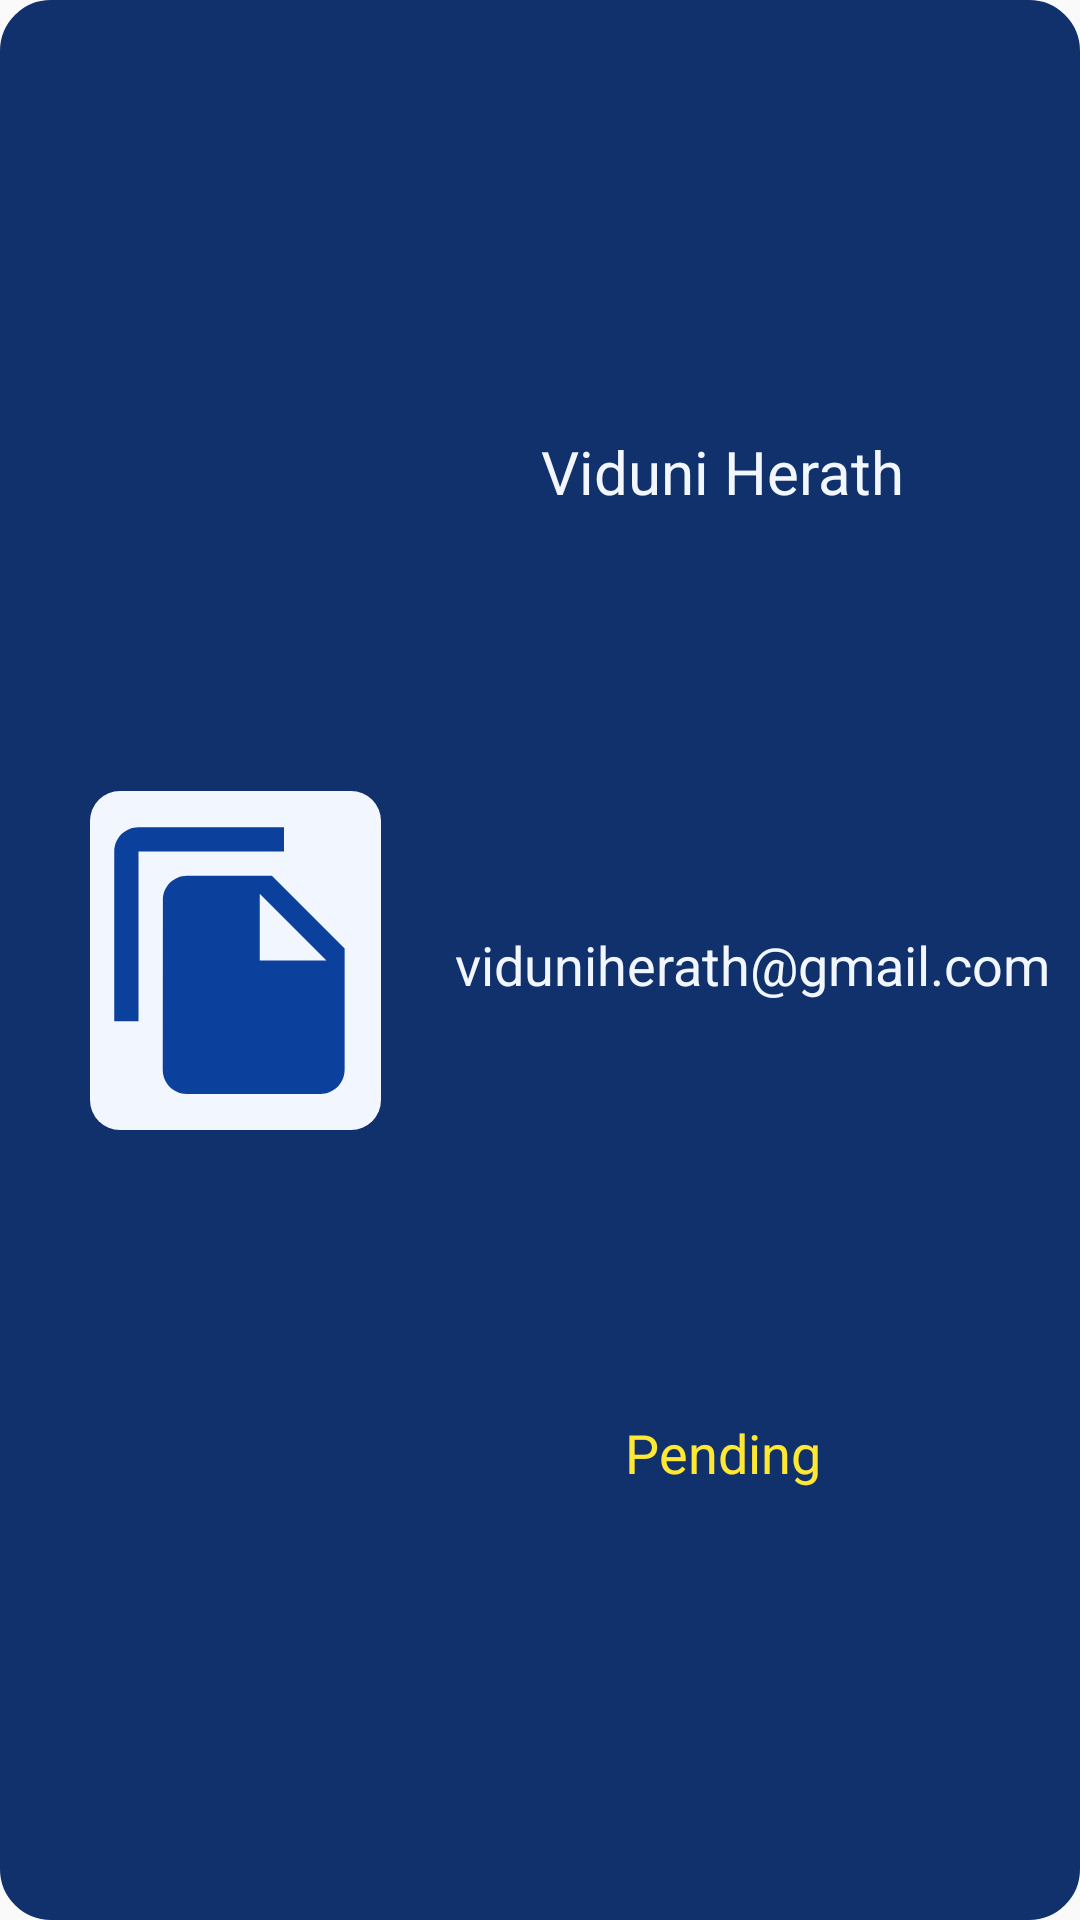

Screen size 1080w x 1920h. Icon name, then its center in pixels as point (x, y):
file: point (235, 960)
